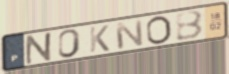0: (57, 28, 82, 59)
B: (174, 9, 205, 43)
K: (88, 24, 111, 54)
N: (24, 30, 55, 66), (113, 18, 145, 51)
O: (145, 15, 174, 47)
